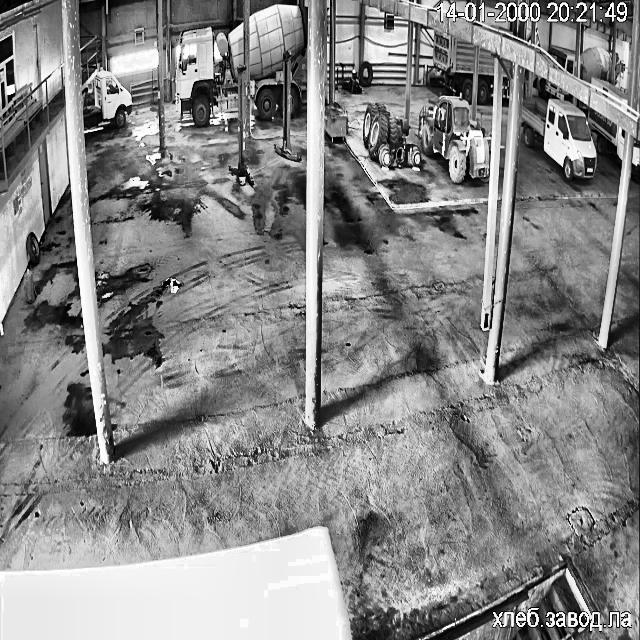class6: (418, 96, 489, 181), (362, 103, 420, 166)
class7: (176, 4, 306, 124), (521, 99, 596, 178), (433, 28, 474, 101), (83, 69, 132, 128), (588, 108, 624, 158), (580, 46, 610, 82), (476, 48, 494, 103), (592, 77, 628, 102), (548, 45, 574, 73), (534, 77, 570, 97), (632, 140, 640, 174), (616, 130, 624, 160), (500, 74, 508, 97), (616, 53, 620, 76), (505, 60, 510, 70)
tractor: (25, 268, 34, 301)
truck: (274, 52, 300, 161), (229, 68, 253, 185)
